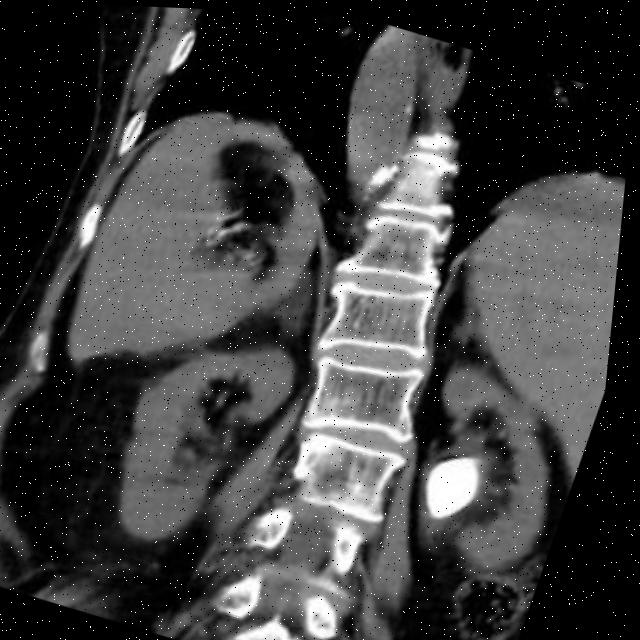Tas_Var: (414, 423, 509, 535)
